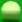white: (0, 0, 22, 22)
